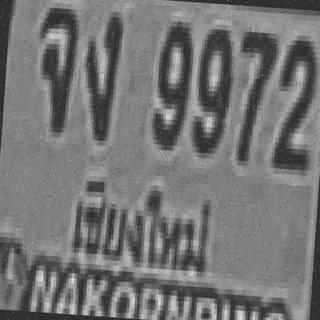A07: (79, 5, 122, 136)
A08: (33, 2, 78, 128)
N02: (271, 29, 316, 165)
N07: (232, 26, 275, 162)
N09: (189, 23, 234, 154), (150, 15, 192, 146)
P11: (64, 166, 218, 289)
